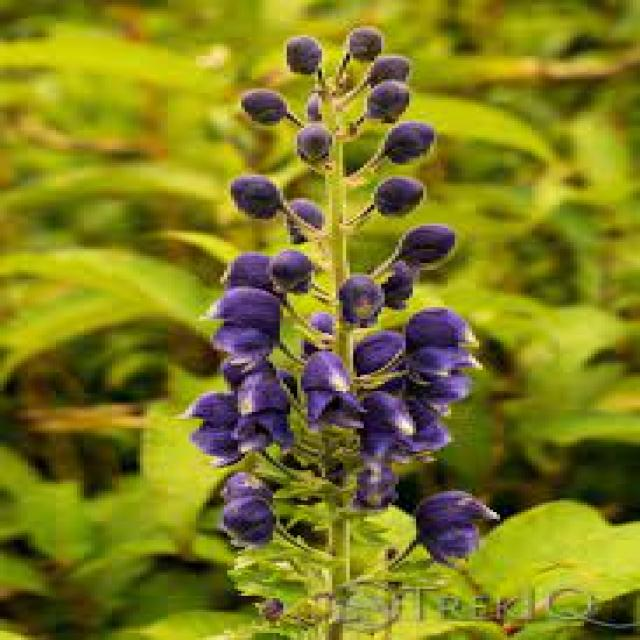Meetha: (183, 9, 618, 640)
